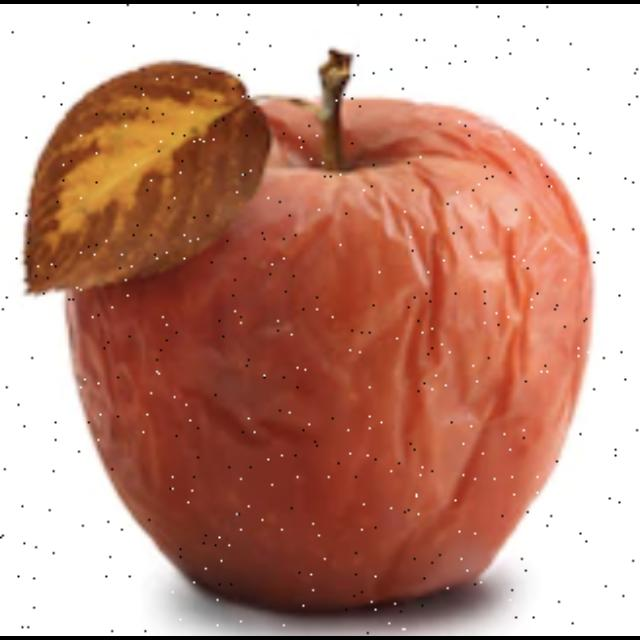Apel Tidak Segar: (19, 20, 613, 616)
